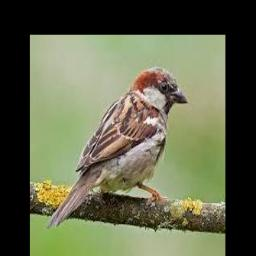Sparrow: (47, 67, 189, 227)
